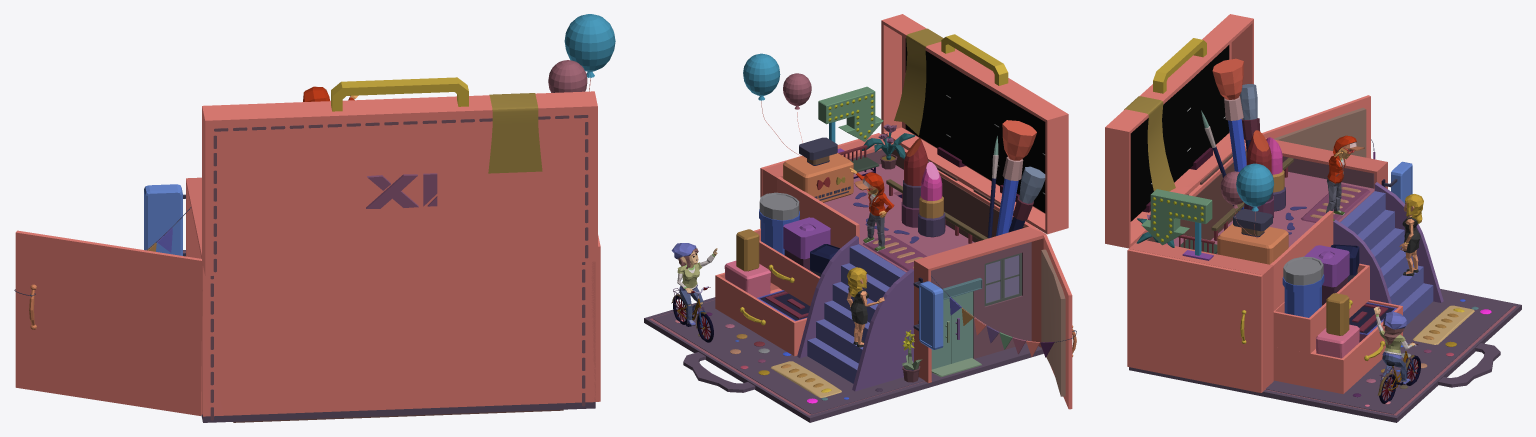
Rendered from Huazhuanghe_chai.FBX.
3 views of the same model, side by side, from view 1: azimuth 30°, elevation 25°; view 2: azimuth 150°, elevation 25°; view 3: azimuth 270°, elevation 25° (orthographic). The views are drawn at different scales.
Parts seen in each view (by area): view 1: Huazhuanghe13, Huazhuanghe153, Huazhuanghe12, Huazhuanghe03, Huazhuanghe154, Huazhuanghe54, Huazhuanghe52, Huazhuanghe134, Huazhuanghe53, Huazhuanghe136, Huazhuanghe07; view 2: Huazhuanghe13, Huazhuanghe12, Huazhuanghe16, Huazhuanghe48, Huazhuanghe47, Huazhuanghe68, Huazhuanghe106, Huazhuanghe139, Huazhuanghe153, Huazhuanghe149, Huazhuanghe92, Huazhuanghe07 (+35 smaller); view 3: Huazhuanghe12, Huazhuanghe136, Huazhuanghe13, Huazhuanghe16, Huazhuanghe47, Huazhuanghe48, Huazhuanghe106, Huazhuanghe92, Huazhuanghe139, Huazhuanghe149, Huazhuanghe153, Huazhuanghe52 (+27 smaller).
Boxes of the visible parts, x1=… form: Huazhuanghe13: x1=15, y1=91, x2=597, y2=416; Huazhuanghe153: x1=488, y1=93, x2=542, y2=173; Huazhuanghe12: x1=183, y1=250, x2=595, y2=422; Huazhuanghe03: x1=210, y1=115, x2=588, y2=420; Huazhuanghe154: x1=144, y1=184, x2=182, y2=255; Huazhuanghe54: x1=331, y1=77, x2=468, y2=111; Huazhuanghe52: x1=564, y1=14, x2=615, y2=77; Huazhuanghe134: x1=366, y1=173, x2=437, y2=208; Huazhuanghe53: x1=548, y1=60, x2=587, y2=92; Huazhuanghe136: x1=595, y1=235, x2=600, y2=401; Huazhuanghe07: x1=233, y1=409, x2=563, y2=422; Huazhuanghe13: x1=762, y1=14, x2=1072, y2=409; Huazhuanghe12: x1=644, y1=228, x2=1043, y2=422; Huazhuanghe16: x1=905, y1=38, x2=1045, y2=212; Huazhuanghe48: x1=797, y1=235, x2=913, y2=391; Huazhuanghe47: x1=807, y1=244, x2=905, y2=383; Huazhuanghe68: x1=931, y1=242, x2=1031, y2=358; Huazhuanghe106: x1=823, y1=164, x2=974, y2=272; Huazhuanghe139: x1=1041, y1=249, x2=1065, y2=396; Huazhuanghe153: x1=894, y1=28, x2=943, y2=135; Huazhuanghe149: x1=783, y1=153, x2=853, y2=202; Huazhuanghe92: x1=818, y1=86, x2=883, y2=141; Huazhuanghe07: x1=891, y1=149, x2=1025, y2=242; Huazhuanghe12: x1=1129, y1=263, x2=1521, y2=422; Huazhuanghe136: x1=1127, y1=249, x2=1262, y2=392; Huazhuanghe13: x1=1105, y1=14, x2=1387, y2=391; Huazhuanghe16: x1=1130, y1=45, x2=1229, y2=221; Huazhuanghe47: x1=1340, y1=191, x2=1433, y2=325; Huazhuanghe48: x1=1333, y1=182, x2=1443, y2=303; Huazhuanghe106: x1=1166, y1=172, x2=1374, y2=253; Huazhuanghe92: x1=1141, y1=189, x2=1212, y2=245; Huazhuanghe139: x1=1274, y1=107, x2=1366, y2=157; Huazhuanghe149: x1=1217, y1=223, x2=1288, y2=264; Huazhuanghe153: x1=1124, y1=96, x2=1175, y2=191; Huazhuanghe52: x1=1236, y1=163, x2=1274, y2=211.
Size of the model in its own units: 27.7 by 16.13 by 23.55.
142 materials, 1 textured.
